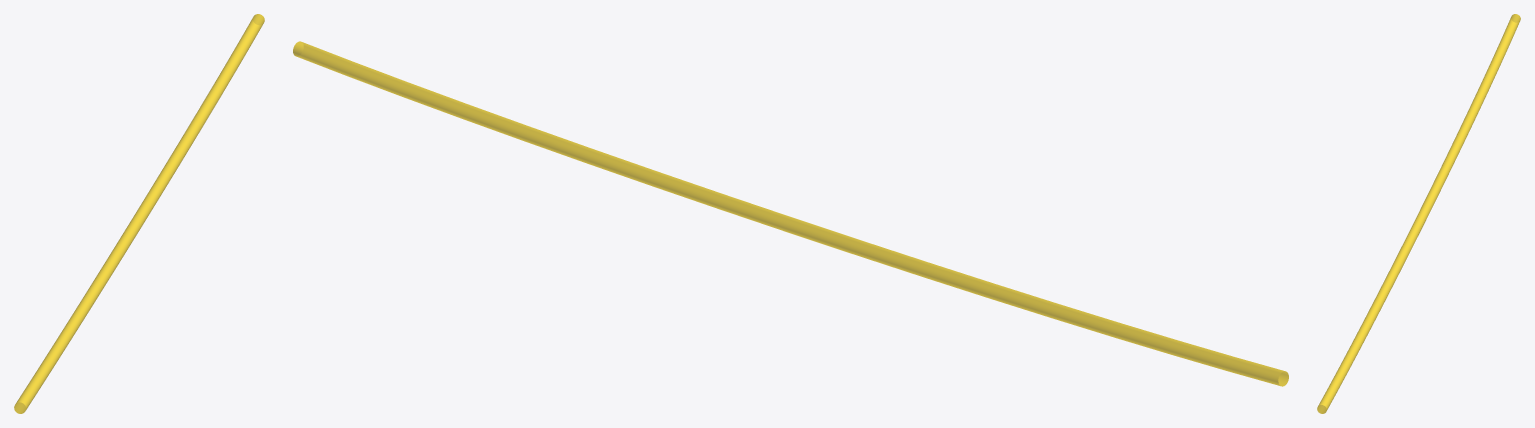
Rendered from Event_15818458_track_69.fbx.
3 renders of one model, left to right at view 1: azimuth 90°, elevation 25°; view 2: azimuth 150°, elevation 25°; view 3: azimuth 270°, elevation 25°, orthographic. The views are drawn at different scales.
Visible parts, largest first — view 1: Model; view 2: Model; view 3: Model.
Boxes of the visible parts, x1,y1,x2,y2 form: Model: (14, 14, 264, 413); Model: (293, 41, 1288, 386); Model: (1317, 14, 1520, 413).
Size of the model in its own units: 3.35 by 0.2057 by 0.8132.
